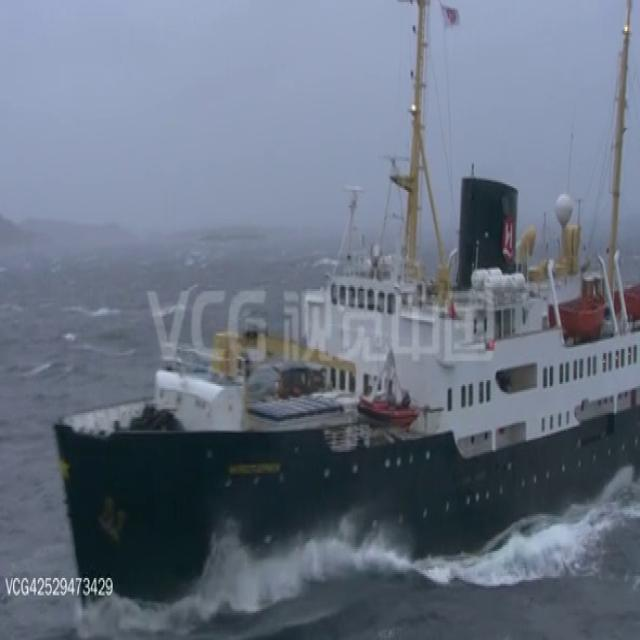passenger ship: (31, 93, 640, 576)
